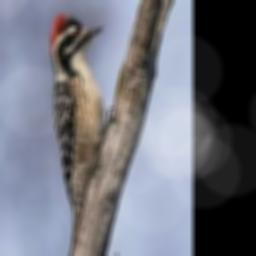Woodpecker: (48, 14, 118, 242)
